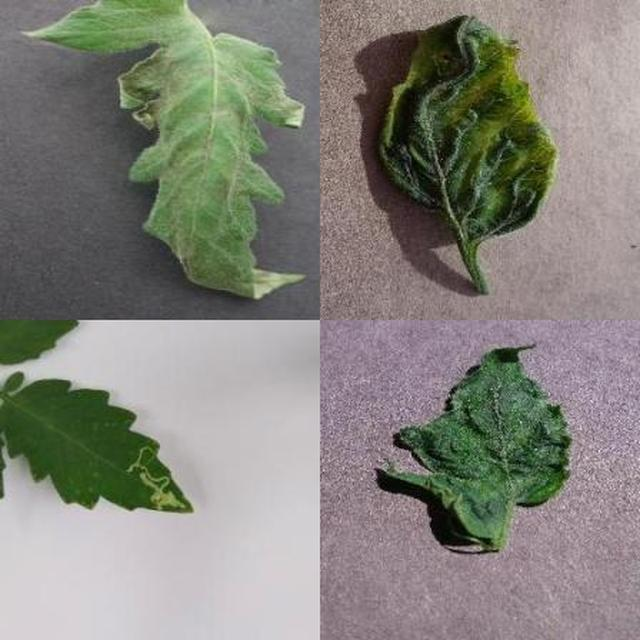Late Blight Leaf: (139, 186, 640, 638)
